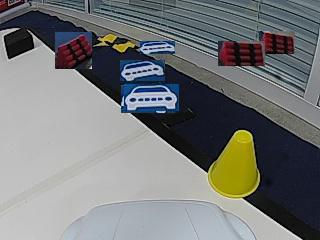block: (4, 29, 34, 60)
cone: (209, 131, 260, 198)
